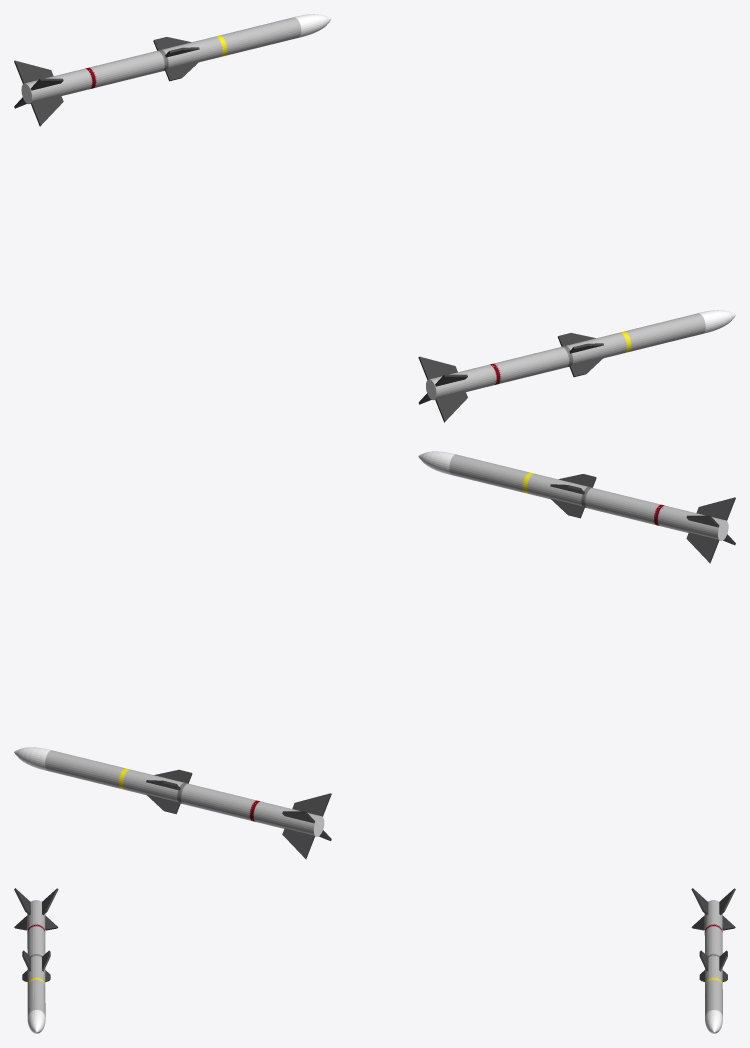
Rendered from aam4lf2a16.glb.
The picture shows the model from 3 angles, top to bottom: view 1: azimuth 30°, elevation 25°; view 2: azimuth 150°, elevation 25°; view 3: azimuth 270°, elevation 25°; orthographic projection. The views are drawn at different scales.
Visible parts, largest first — view 1: 球.001, 球.002; view 2: 球.001, 球.002; view 3: 球.002, 球.001.
Part boxes in pixels (x1,y1,x2,y2): 球.001: (14, 14, 331, 126); 球.002: (418, 310, 735, 422); 球.001: (14, 747, 331, 859); 球.002: (418, 451, 735, 563); 球.002: (14, 888, 58, 1033); 球.001: (691, 888, 735, 1033).
Size of the model in its own units: 4.82 by 0.7293 by 11.79.
3 materials, 1 textured.
